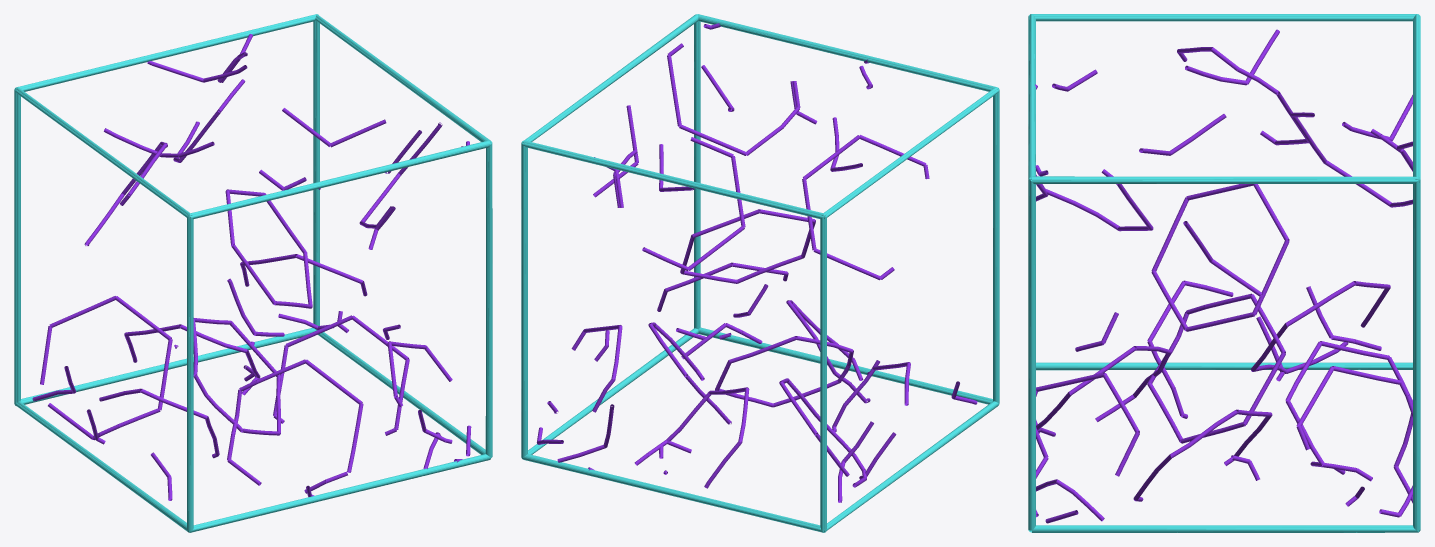
File: dislocation100.glb
The picture shows the model from 3 angles, left to right: view 1: azimuth 30°, elevation 25°; view 2: azimuth 150°, elevation 25°; view 3: azimuth 270°, elevation 25°; orthographic projection. The views are drawn at different scales.
Parts seen in each view (by area): view 1: Shape_IndexedLineSet, Shape_IndexedLineSet.001; view 2: Shape_IndexedLineSet, Shape_IndexedLineSet.001; view 3: Shape_IndexedLineSet.001, Shape_IndexedLineSet.
Boxes of the visible parts, x1,y1,x2,y2 form: Shape_IndexedLineSet: [14, 14, 492, 532]; Shape_IndexedLineSet.001: [32, 34, 471, 500]; Shape_IndexedLineSet: [521, 14, 999, 532]; Shape_IndexedLineSet.001: [536, 23, 977, 502]; Shape_IndexedLineSet.001: [1035, 29, 1413, 523]; Shape_IndexedLineSet: [1028, 14, 1420, 532].
Bounding box in the file's own units: 1.02 × 1.02 × 1.02.
